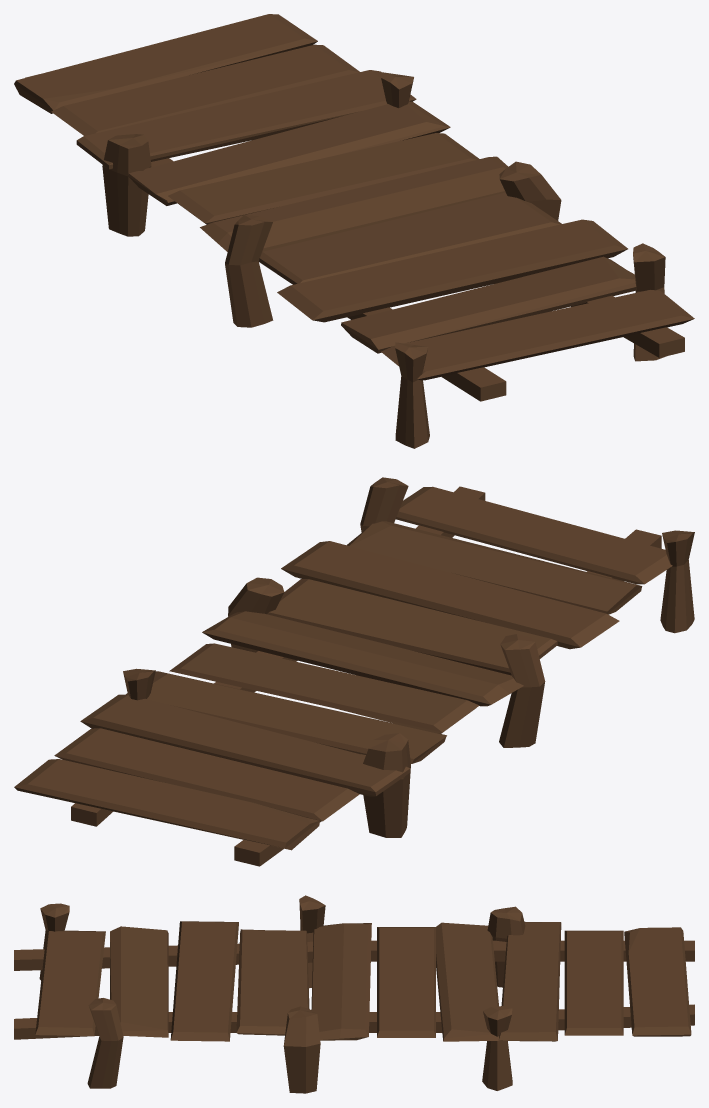
The model's file is pontoon-compressed.glb.
3 views of the same model, one above another, from view 1: azimuth 30°, elevation 25°; view 2: azimuth 150°, elevation 25°; view 3: azimuth 270°, elevation 25° (orthographic). The views are drawn at different scales.
Parts seen in each view (by area): view 1: pontoon; view 2: pontoon; view 3: pontoon.
Boxes of the visible parts, bbox=[...] form: pontoon: bbox=[14, 14, 694, 448]; pontoon: bbox=[14, 477, 694, 866]; pontoon: bbox=[14, 895, 694, 1093].
Bounding box in the file's own units: 4.6 × 1.4 × 10.7.
